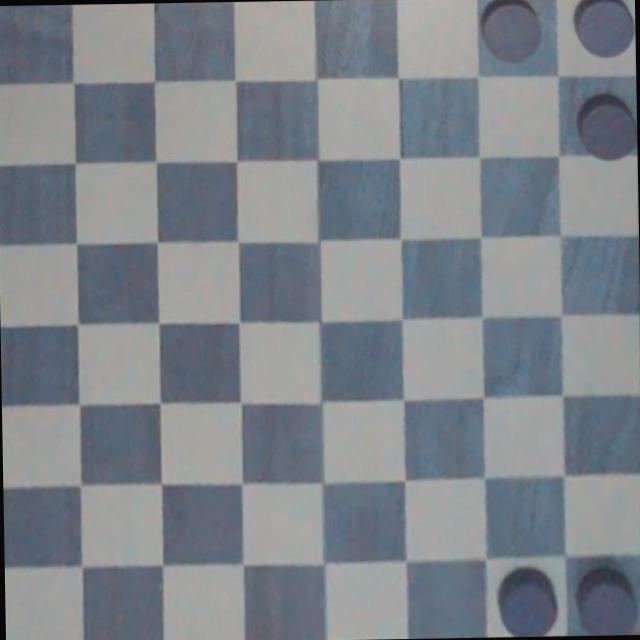BOARD: (0, 0, 640, 640)
black: (488, 563, 566, 637), (476, 0, 549, 70), (573, 562, 640, 635), (570, 91, 637, 162), (568, 0, 634, 65)
